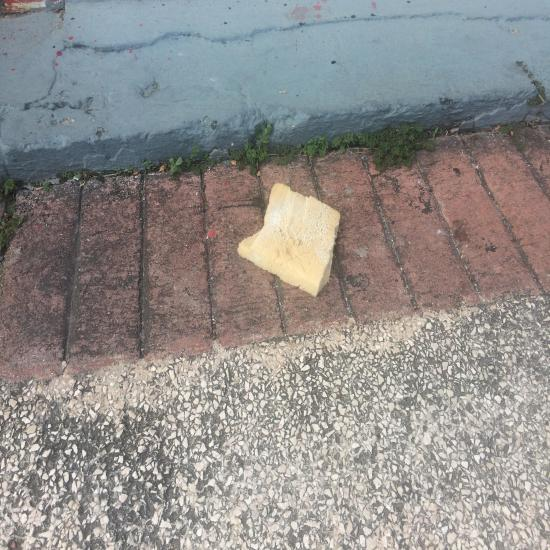Drink can: (169, 358, 205, 379)
